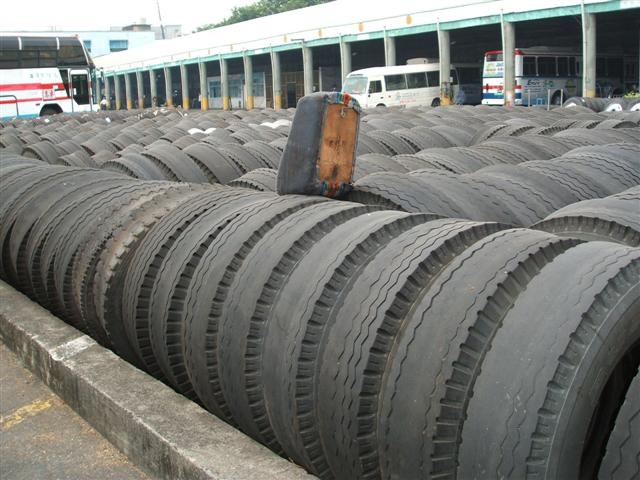tire: (457, 240, 640, 479)
